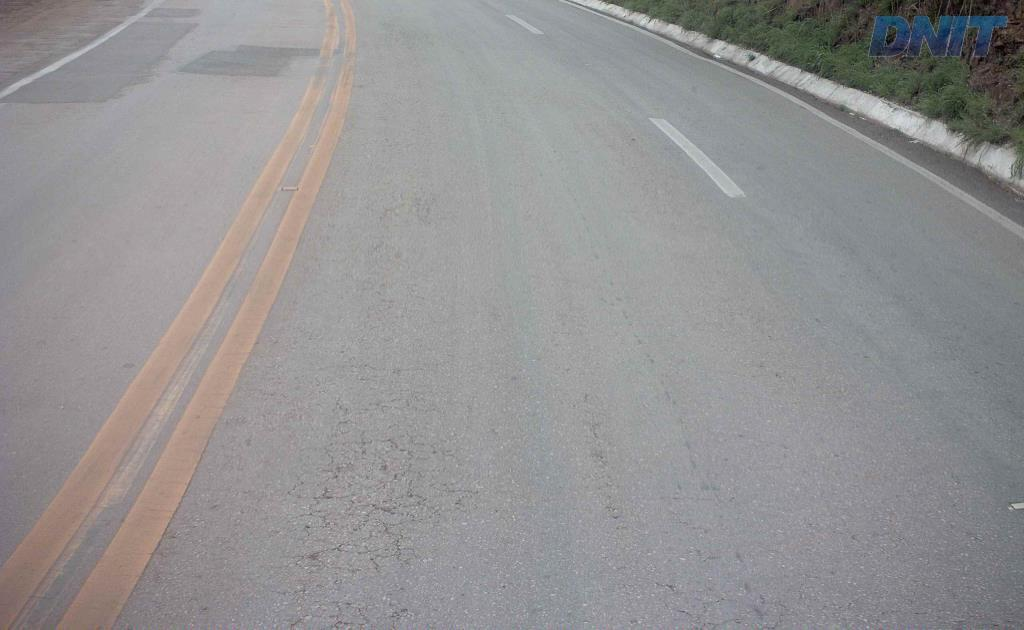crack: (377, 521, 411, 568)
